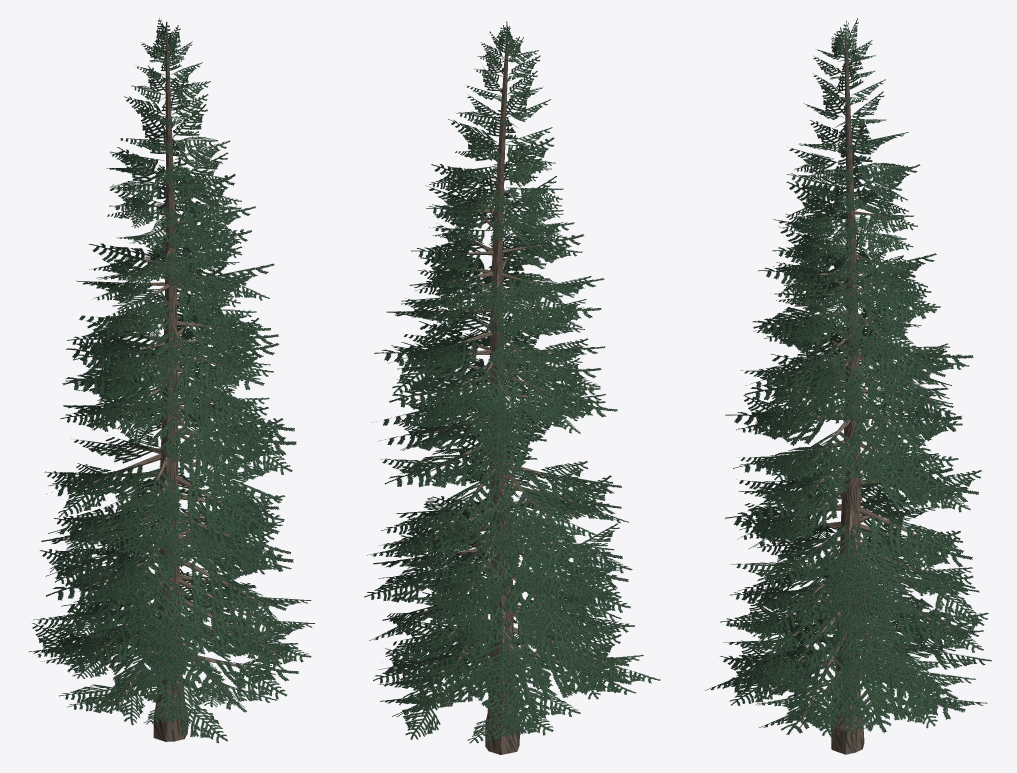
Rendered from environment_fir3_v1.fbx.
The picture shows the model from 3 angles, left to right: view 1: azimuth 30°, elevation 25°; view 2: azimuth 150°, elevation 25°; view 3: azimuth 270°, elevation 25°; orthographic projection.
Visible parts, largest first — view 1: environment_fir3_v1_lod0; view 2: environment_fir3_v1_lod0; view 3: environment_fir3_v1_lod0.
Part boxes in pixels (bbox=[...]): environment_fir3_v1_lod0: bbox=[29, 17, 314, 743]; environment_fir3_v1_lod0: bbox=[364, 21, 660, 754]; environment_fir3_v1_lod0: bbox=[705, 18, 991, 754].
Size of what is drawn, in the model's own units: 1131 by 3024 by 1134.
